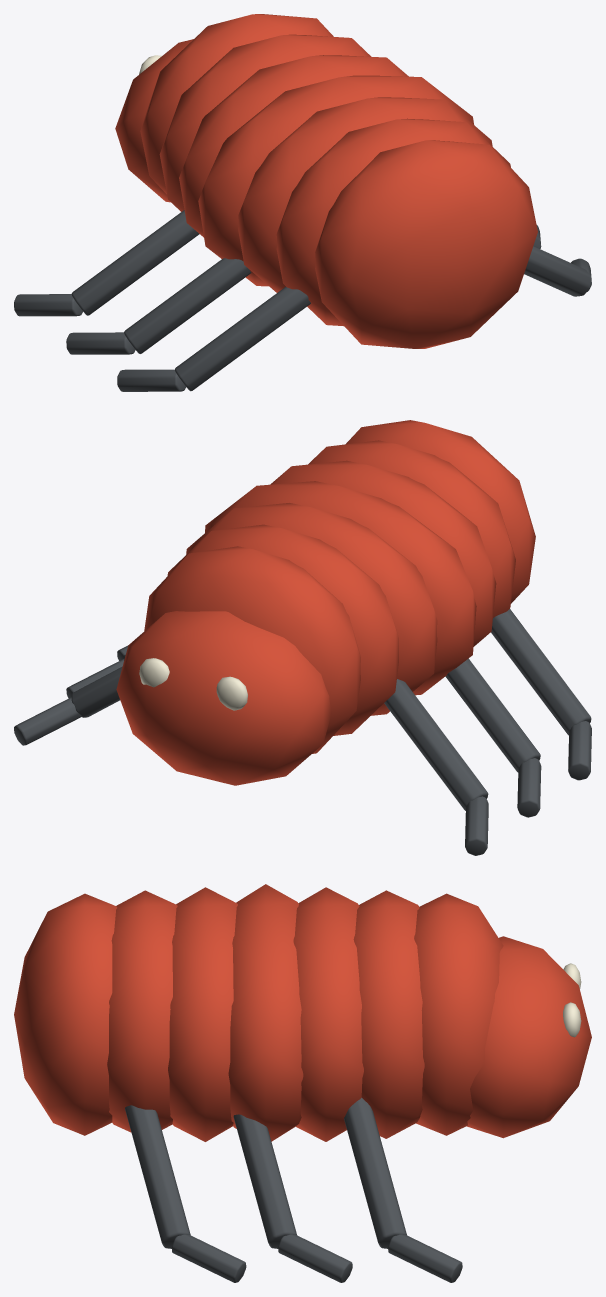
Rendered from pillbug.glb.
3 renders of one model, top to bottom at view 1: azimuth 30°, elevation 25°; view 2: azimuth 150°, elevation 25°; view 3: azimuth 270°, elevation 25°, orthographic. The views are drawn at different scales.
Parts seen in each view (by area): view 1: pillbug, pillbug_leg_0_-1, pillbug_leg_2_-1, pillbug_leg_1_-1, pillbug_head, pillbug_foot_1_-1, pillbug_foot_2_-1, pillbug_foot_0_-1; view 2: pillbug, pillbug_head, pillbug_leg_2_-1, pillbug_leg_0_-1, pillbug_leg_1_-1, pillbug_foot_2_-1, pillbug_foot_0_-1, pillbug_foot_1_-1, pillbug_eye_L, pillbug_eye_R; view 3: pillbug, pillbug_head.
Boxes of the visible parts, x1,y1,x2,y2 form: pillbug: [140, 14, 591, 348]; pillbug_leg_0_-1: [175, 287, 310, 391]; pillbug_leg_2_-1: [71, 210, 199, 315]; pillbug_leg_1_-1: [124, 258, 251, 353]; pillbug_head: [115, 39, 193, 202]; pillbug_foot_1_-1: [66, 332, 135, 354]; pillbug_foot_2_-1: [14, 294, 82, 316]; pillbug_foot_0_-1: [117, 369, 185, 391]; pillbug: [14, 420, 535, 753]; pillbug_head: [116, 611, 331, 785]; pillbug_leg_2_-1: [384, 679, 488, 810]; pillbug_leg_0_-1: [491, 609, 591, 735]; pillbug_leg_1_-1: [445, 658, 540, 772]; pillbug_foot_2_-1: [465, 796, 488, 855]; pillbug_foot_0_-1: [568, 721, 591, 780]; pillbug_foot_1_-1: [517, 758, 541, 817]; pillbug_eye_L: [216, 676, 247, 710]; pillbug_eye_R: [139, 658, 169, 687]; pillbug: [14, 884, 503, 1282]; pillbug_head: [466, 936, 591, 1138].
Size of the model in its own units: 1.61 by 0.8114 by 1.63.
